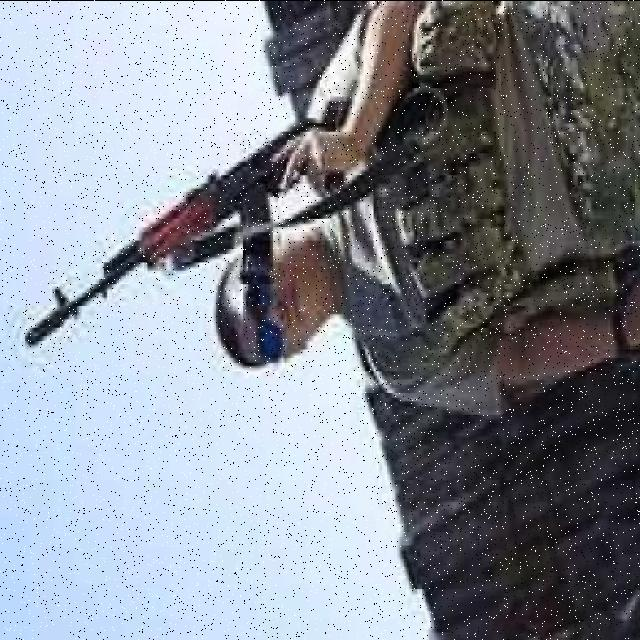Rifle: (25, 66, 495, 343)
